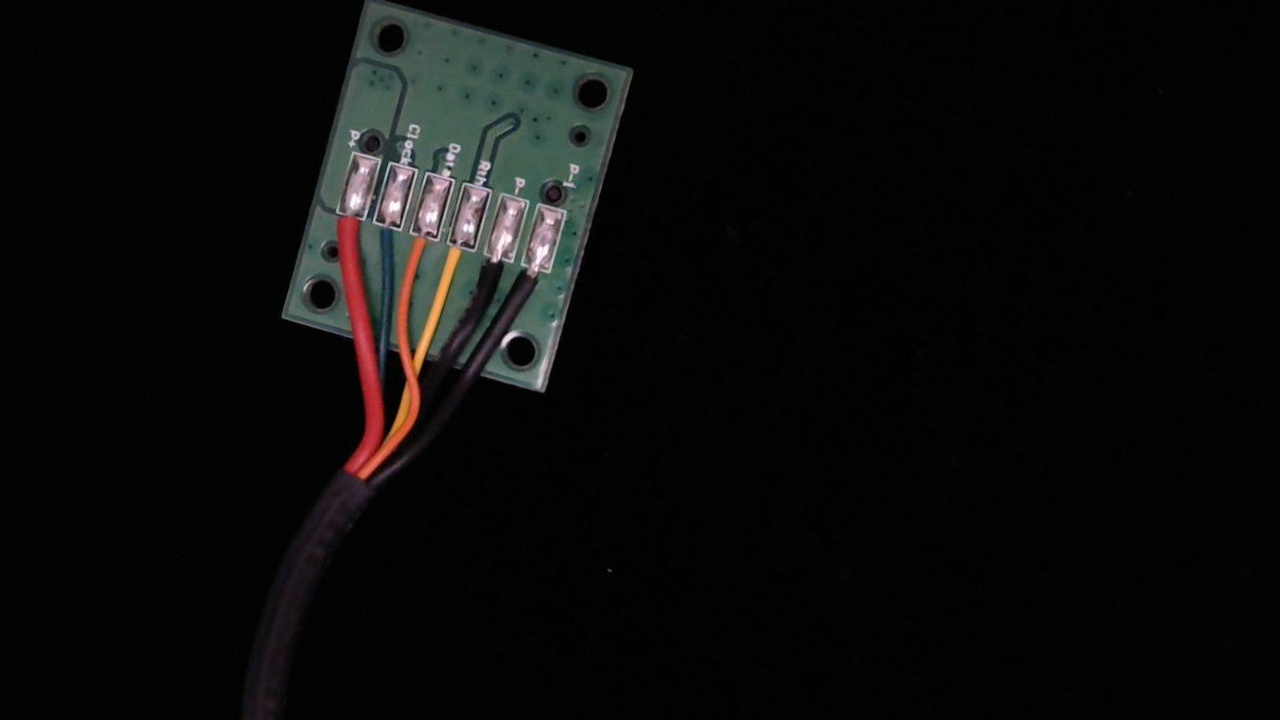Black: (463, 237, 517, 317)
Black1: (505, 250, 556, 324)
Green: (355, 206, 409, 283)
Orange: (390, 216, 442, 294)
Red: (320, 194, 373, 271)
Yellow: (426, 227, 480, 308)
